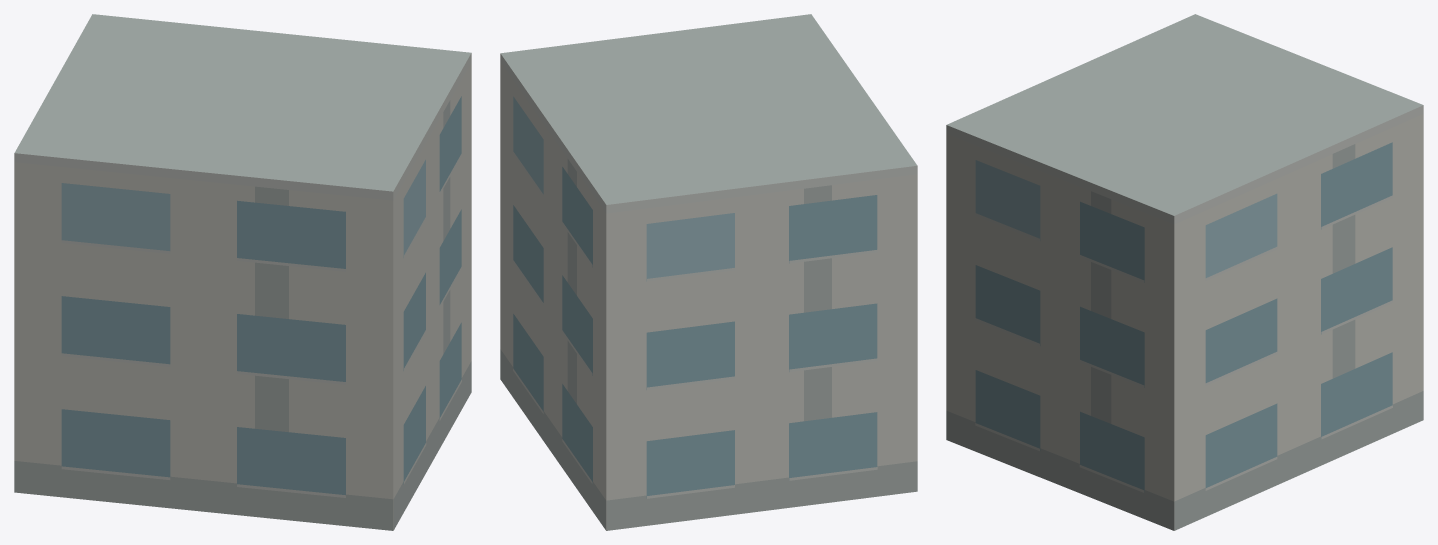
File: residential-62b0a828-f08a-470a-b796-1866dd427908.glb
The picture shows the model from 3 angles, left to right: view 1: azimuth 30°, elevation 25°; view 2: azimuth 150°, elevation 25°; view 3: azimuth 270°, elevation 25°; orthographic projection. The views are drawn at different scales.
Visible parts, largest first — view 1: residential-62b0a828-f08a-470a-b796-1866dd427908.tmp; view 2: residential-62b0a828-f08a-470a-b796-1866dd427908.tmp; view 3: residential-62b0a828-f08a-470a-b796-1866dd427908.tmp.
Boxes of the visible parts, left/top/right/bottom form: residential-62b0a828-f08a-470a-b796-1866dd427908.tmp: left=14, top=14, right=471, bottom=530; residential-62b0a828-f08a-470a-b796-1866dd427908.tmp: left=500, top=14, right=917, bottom=530; residential-62b0a828-f08a-470a-b796-1866dd427908.tmp: left=946, top=14, right=1423, bottom=530.
Bounding box in the file's own units: 12.59 × 9.15 × 12.58.
